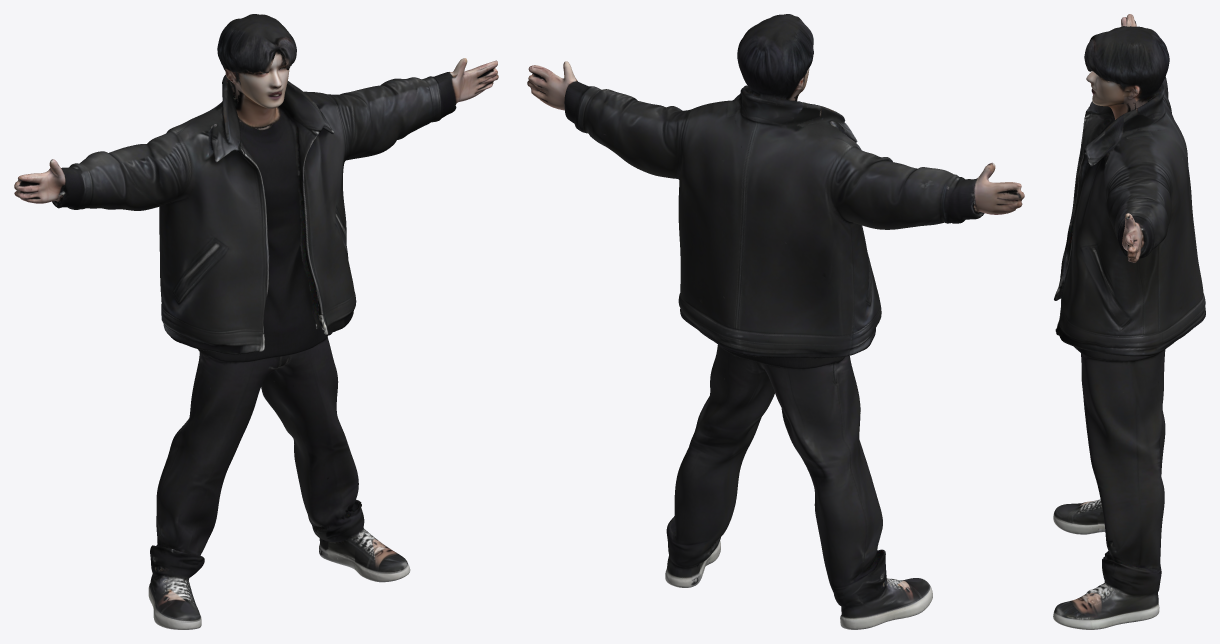
3 views of the same model, side by side, from view 1: azimuth 30°, elevation 25°; view 2: azimuth 150°, elevation 25°; view 3: azimuth 270°, elevation 25° (orthographic). The views are drawn at different scales.
Size of the model in its own units: 1.8 by 2 by 0.5065.
1 material, 1 textured.
